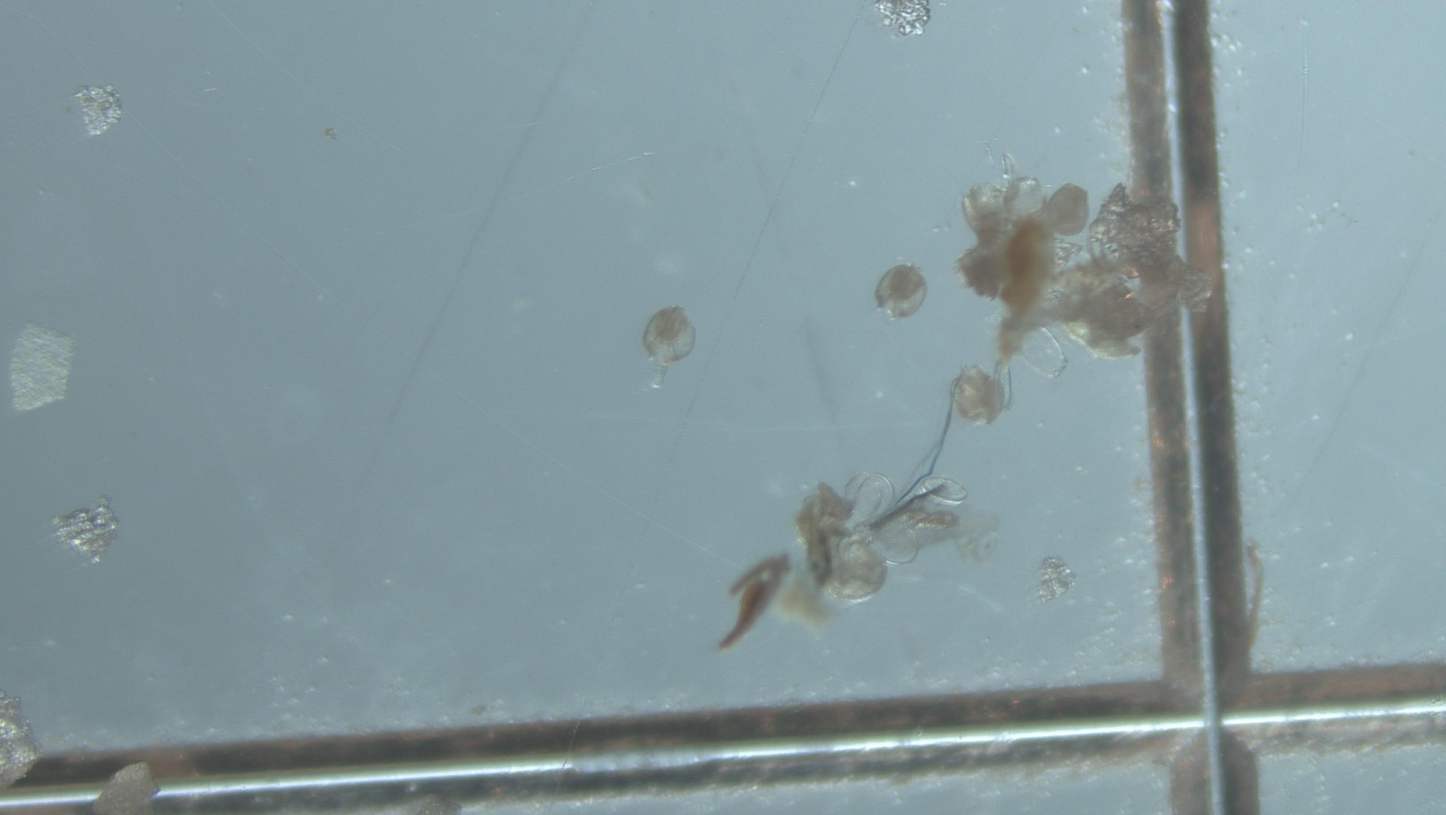dead: (846, 474, 894, 526), (1021, 327, 1067, 377), (871, 520, 922, 564), (913, 476, 967, 506), (1007, 177, 1045, 216)
live: (642, 306, 696, 388), (954, 365, 1004, 423), (875, 264, 927, 319), (1045, 183, 1088, 236)
